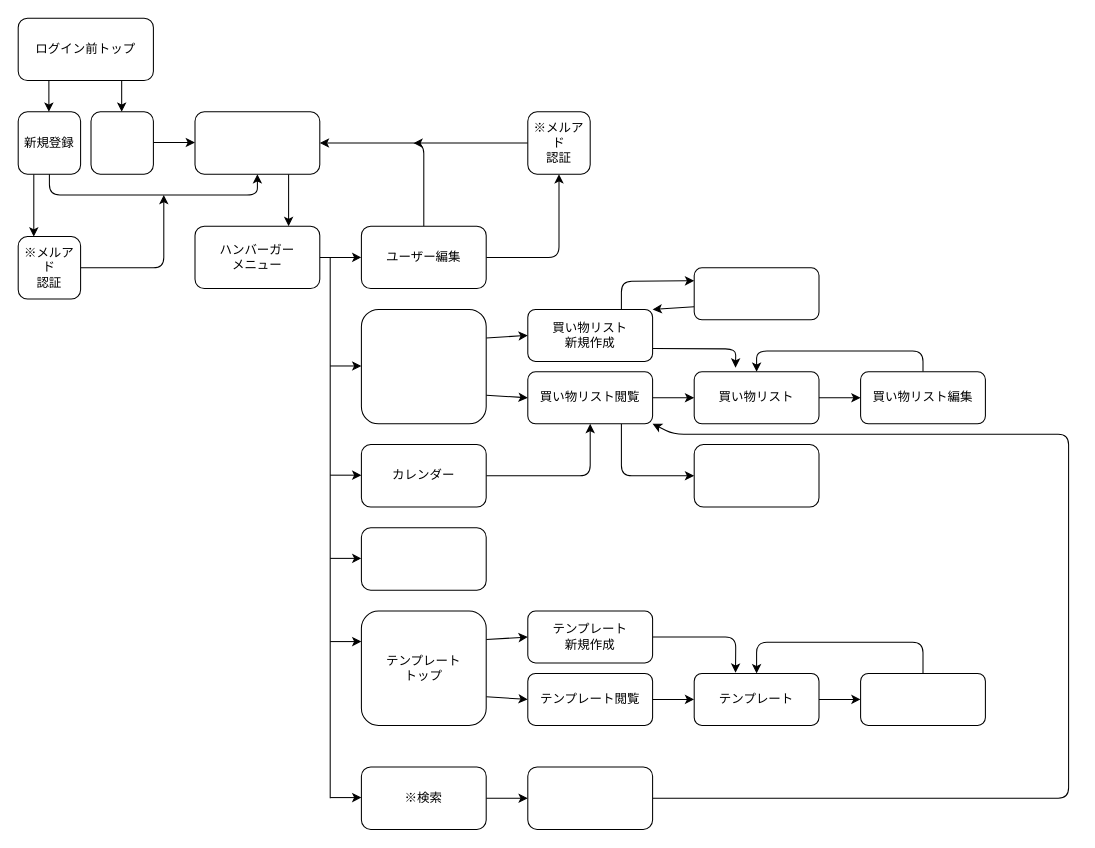
Some shapes in this 1095 by 848 pixel diagram are drawn without their labels. The box of each missing label's shape, as (x1, y1, x2, y2) in pixels:
※チラシ: (360, 527, 486, 590)
※リマインダー: (693, 444, 819, 507)
※検索結果一覧: (527, 766, 653, 829)
テンプレート 選択画面: (693, 267, 819, 320)
テンプレート編集: (860, 672, 985, 725)
ログイン: (90, 111, 153, 174)
ログイン後トップ: (194, 111, 320, 174)
買い物リスト トップ: (360, 308, 486, 424)
